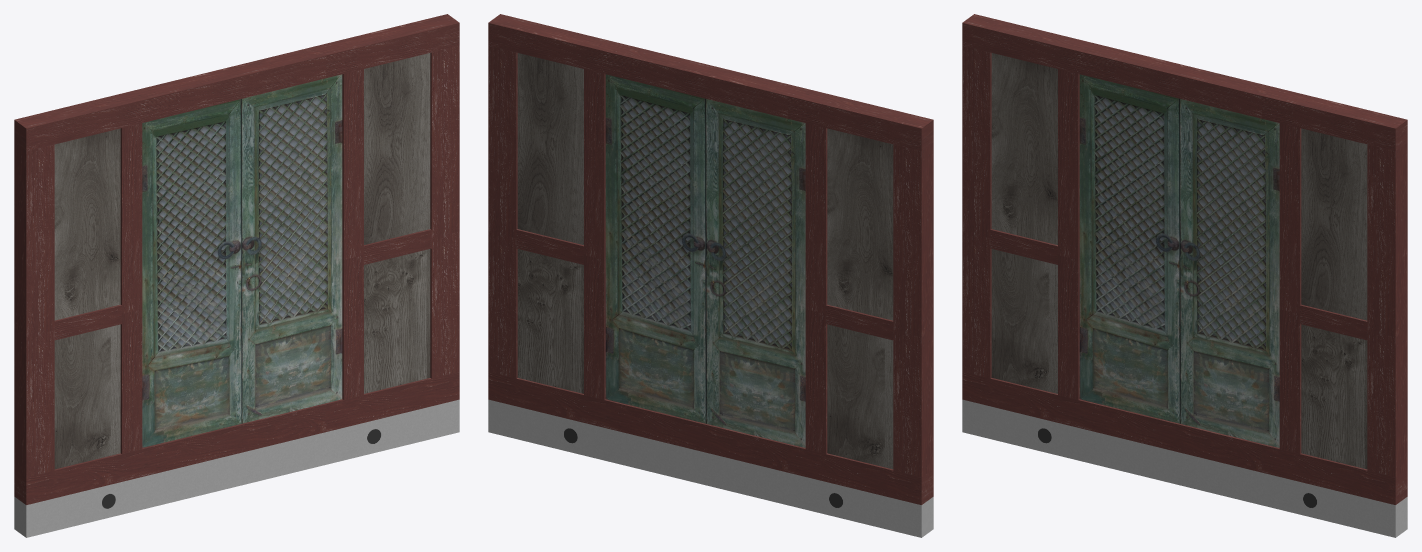
File: SM_Geumsan_Mi_Wall_A.fbx
3 renders of one model, left to right at view 1: azimuth 30°, elevation 25°; view 2: azimuth 150°, elevation 25°; view 3: azimuth 330°, elevation 25°, orthographic.
Visible parts, largest first — view 1: SM_Geumsan_Mi_Wall_A; view 2: SM_Geumsan_Mi_Wall_A; view 3: SM_Geumsan_Mi_Wall_A.
Boxes of the visible parts, x1=… form: SM_Geumsan_Mi_Wall_A: x1=14, y1=14, x2=459, y2=537; SM_Geumsan_Mi_Wall_A: x1=488, y1=14, x2=933, y2=537; SM_Geumsan_Mi_Wall_A: x1=962, y1=14, x2=1407, y2=537.
Bounding box in the file's own units: 414 × 373 × 20.
